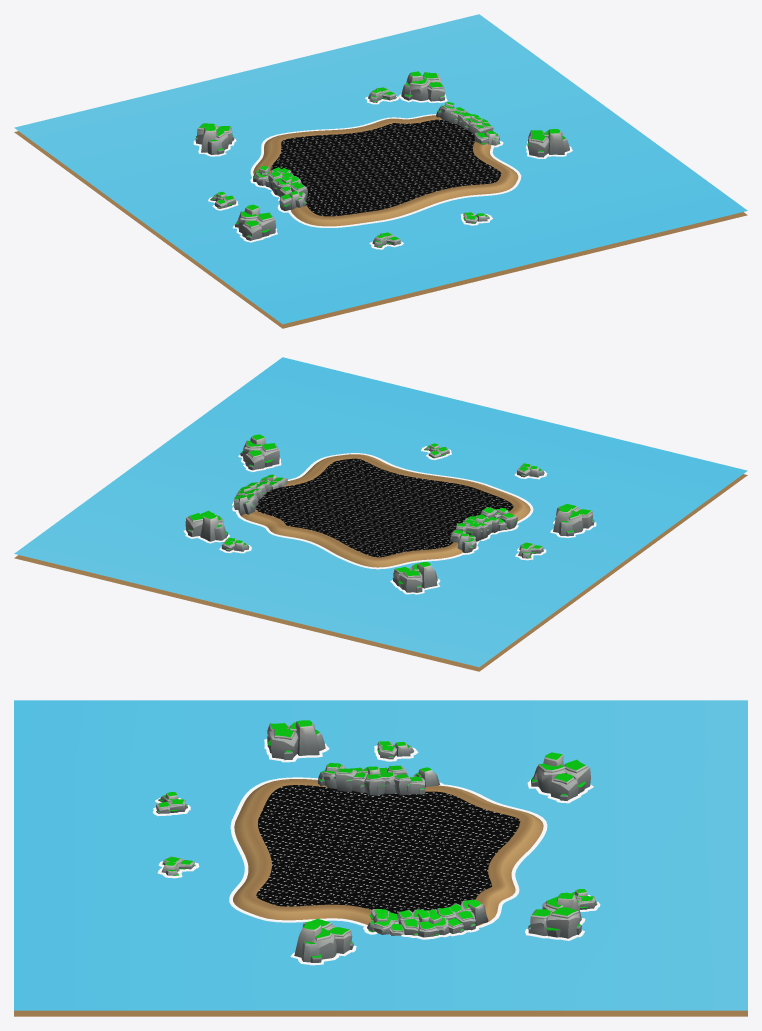
File: Island.glb
3 renders of one model, top to bottom at view 1: azimuth 30°, elevation 25°; view 2: azimuth 150°, elevation 25°; view 3: azimuth 270°, elevation 25°, orthographic. The views are drawn at different scales.
Visible parts, largest first — view 1: Plane.007, Circle.004, Cliff.008, Circle.002, Plane.008, Plane.009; view 2: Plane.007, Circle.004, Cliff.008, Circle.002, Plane.008, Plane.009; view 3: Plane.007, Circle.004, Cliff.008, Circle.002, Plane.008, Plane.009.
Boxes of the visible parts, x1,y1,x2,y2 form: Plane.007: [14, 14, 747, 324]; Circle.004: [270, 119, 501, 216]; Cliff.008: [195, 71, 569, 247]; Circle.002: [253, 115, 518, 226]; Plane.008: [14, 131, 747, 328]; Plane.009: [193, 94, 572, 249]; Plane.007: [14, 357, 747, 667]; Circle.004: [256, 458, 513, 557]; Cliff.008: [185, 434, 594, 592]; Circle.002: [238, 454, 530, 567]; Plane.008: [14, 474, 747, 671]; Plane.009: [183, 446, 596, 594]; Plane.007: [14, 700, 747, 1010]; Circle.004: [256, 785, 520, 913]; Cliff.008: [156, 720, 597, 962]; Circle.002: [233, 779, 543, 925]; Plane.008: [14, 1010, 747, 1016]; Plane.009: [152, 739, 600, 965].
Bounding box in the file's own units: 585 × 39.02 × 585.
Materials: 3 (2 with a texture image).
